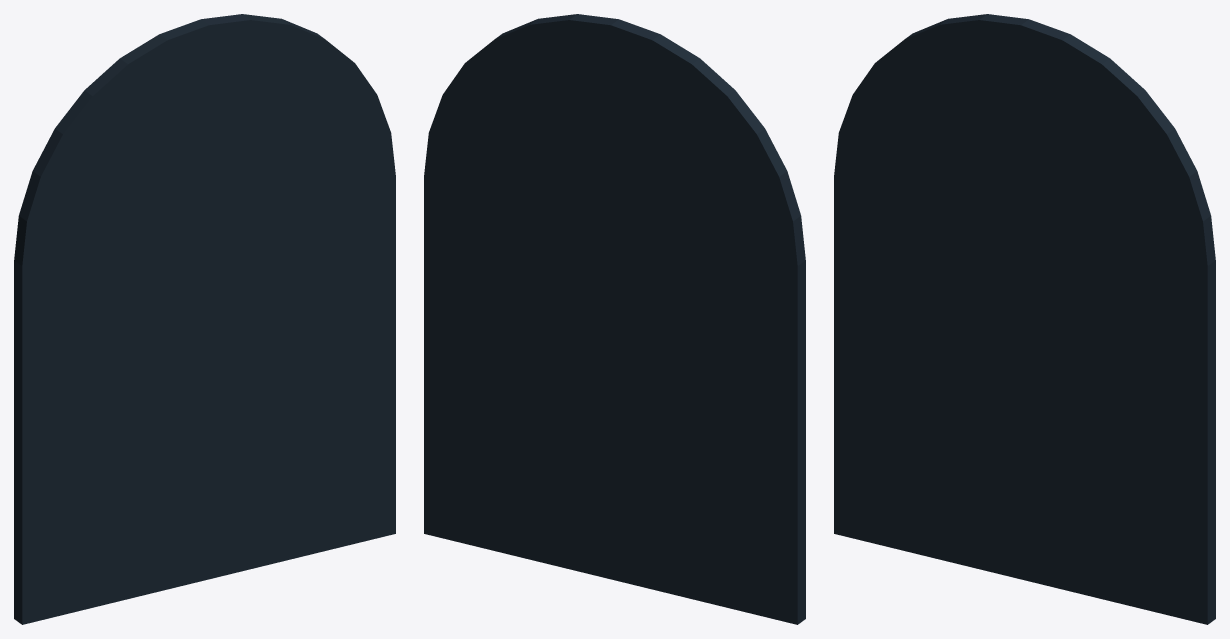
The model's file is Glass_Mosque_Drum.fbx.
3 views of the same model, side by side, from view 1: azimuth 30°, elevation 25°; view 2: azimuth 150°, elevation 25°; view 3: azimuth 330°, elevation 25° (orthographic).
Parts seen in each view (by area): view 1: Glass_Mosque_Drum_LOD0; view 2: Glass_Mosque_Drum_LOD0; view 3: Glass_Mosque_Drum_LOD0.
Part boxes in pixels (x1=…): Glass_Mosque_Drum_LOD0: x1=14, y1=14, x2=395, y2=624; Glass_Mosque_Drum_LOD0: x1=424, y1=14, x2=805, y2=624; Glass_Mosque_Drum_LOD0: x1=834, y1=14, x2=1215, y2=624.
Bounding box in the file's own units: 79 × 112 × 3.
